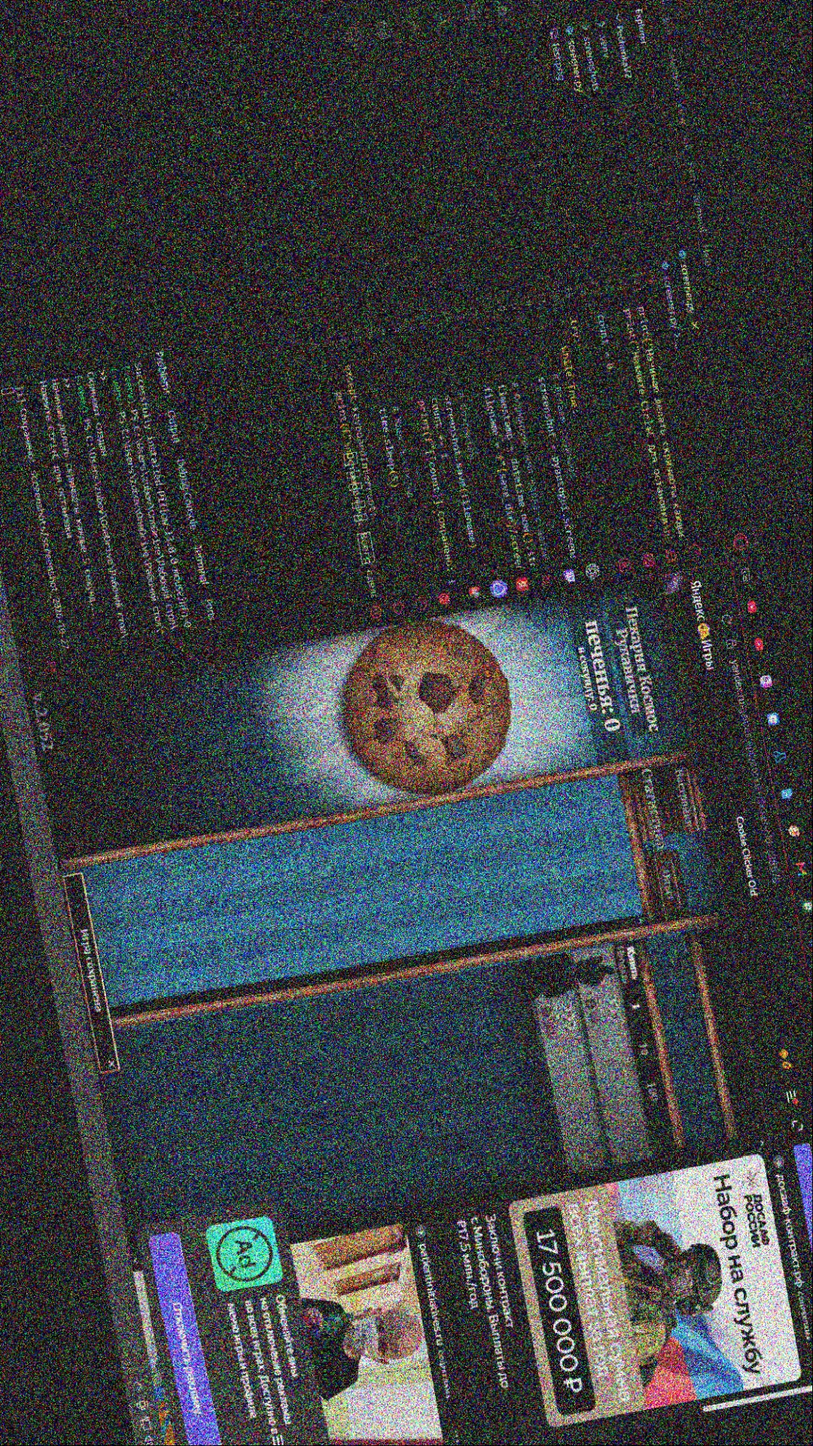pokypki: (512, 949, 669, 1166)
